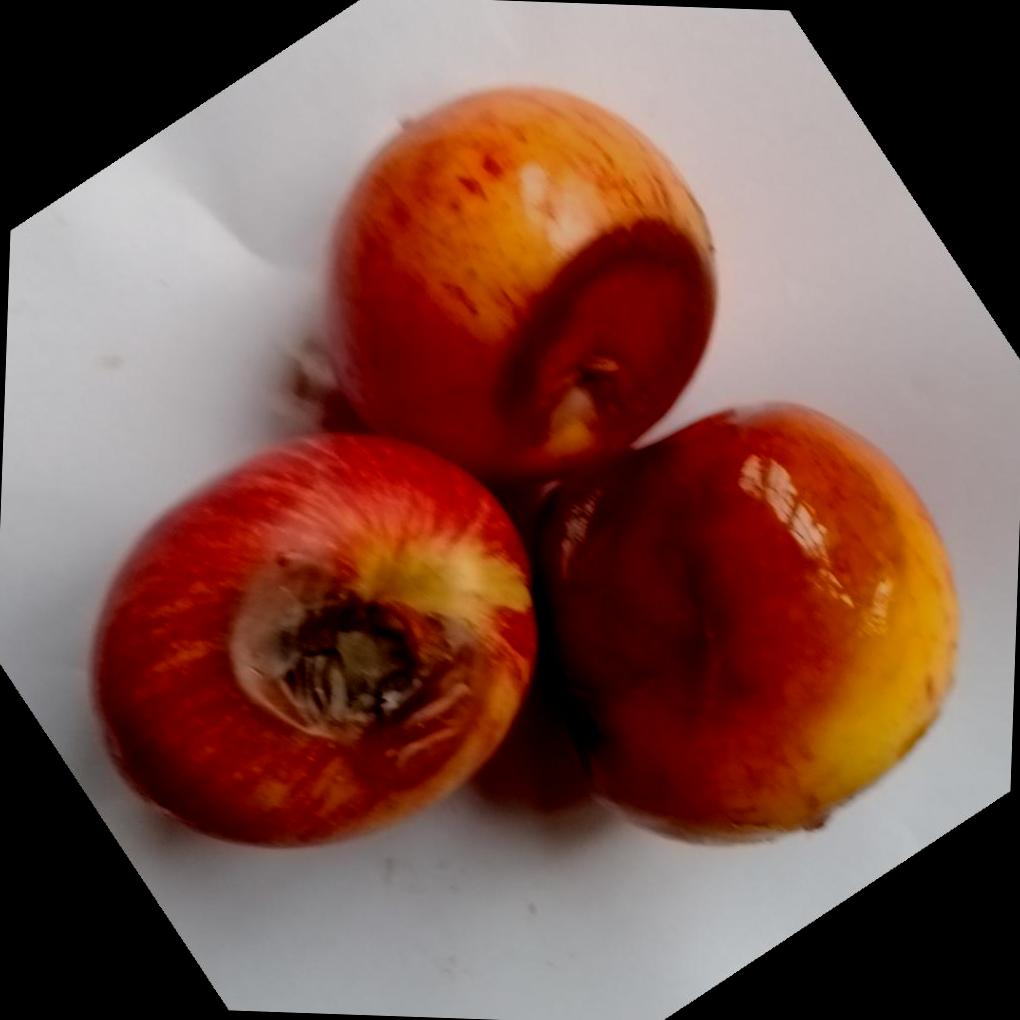FreshOrange: (103, 84, 961, 844)
